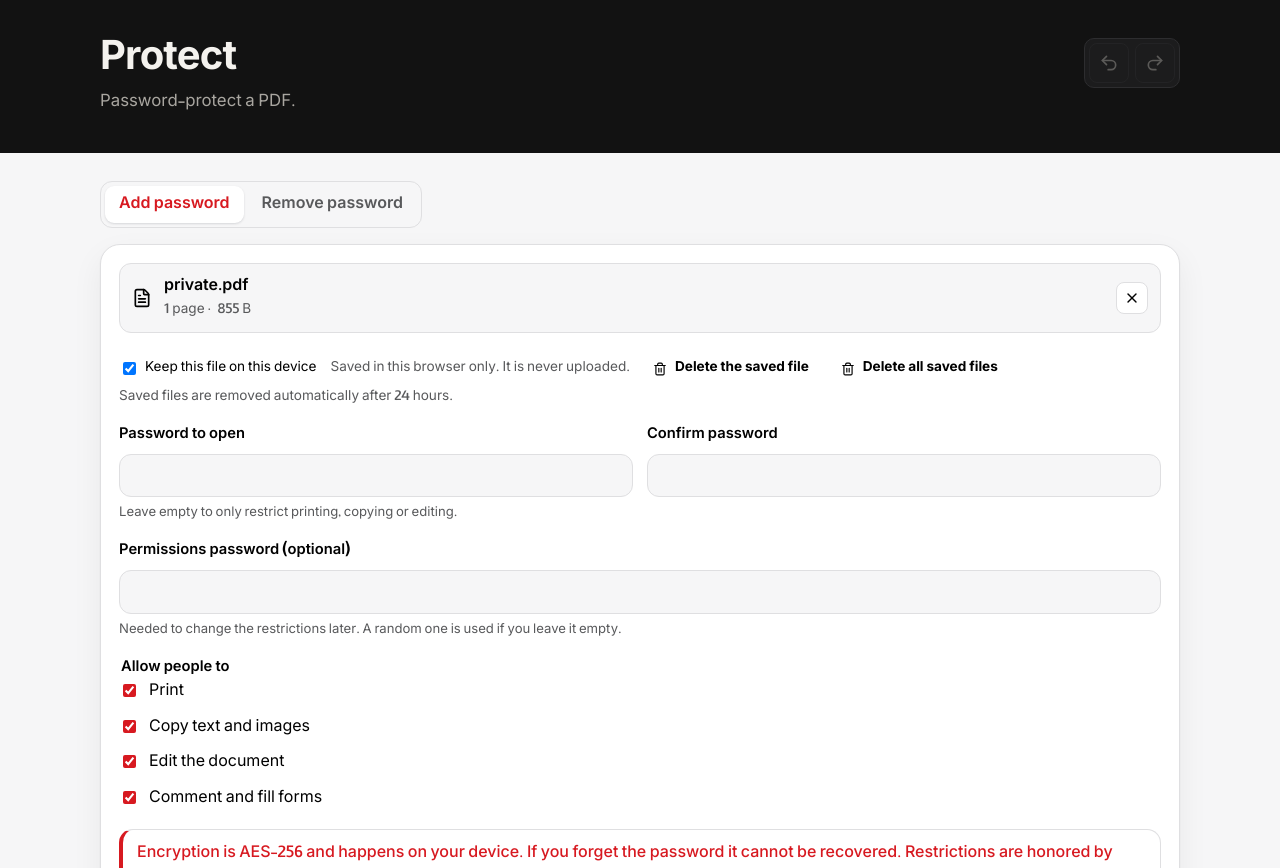
Test case: keeping the opened PDF on this device › does not keep the file when the switch is off
The image size is (1280, 868).
Earlier steps of the test are not shown.
Check: the text "private.pdf" is shown, box [164,276,248,298]
Click the checkbox labelled "Keep this file on this device".
click(130, 369)  # box [123,362,136,375]
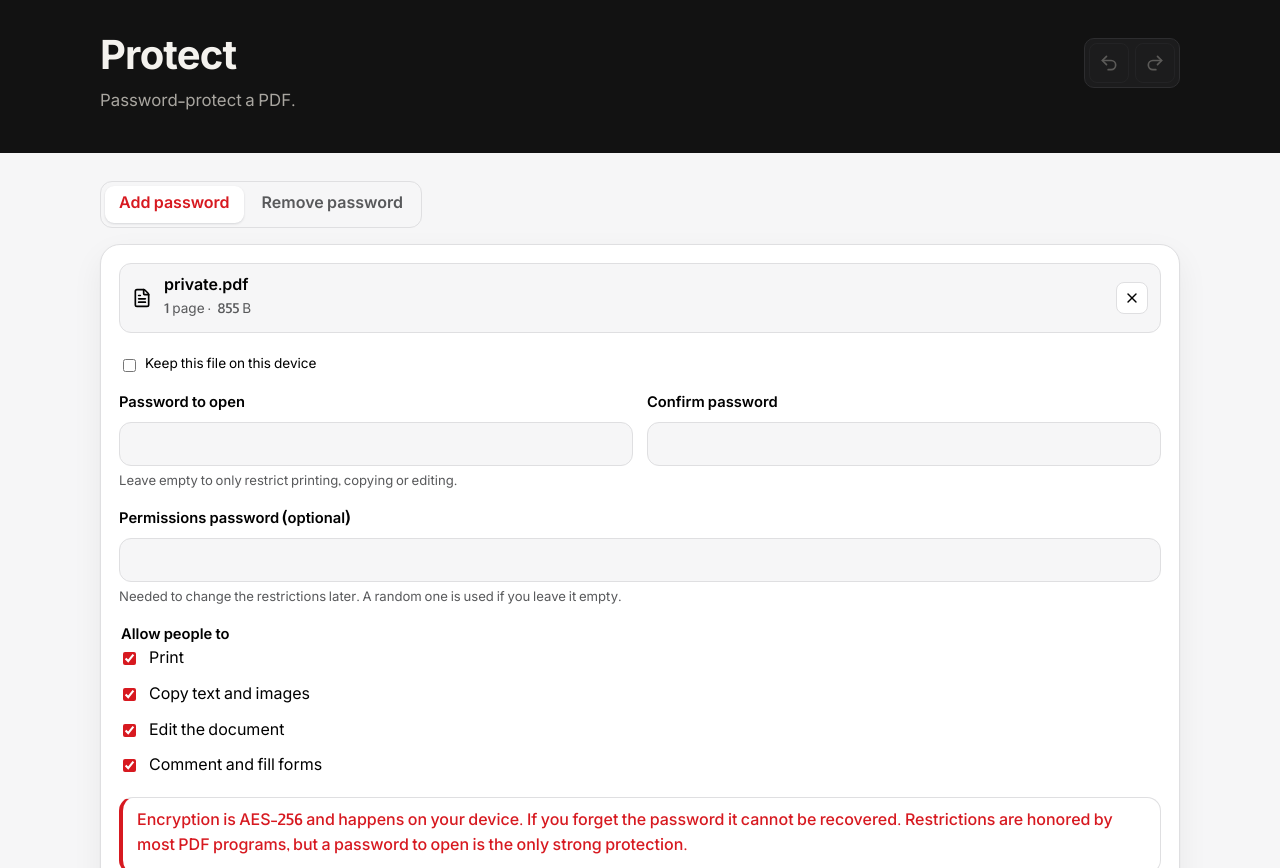
Check: the button "Delete the saved file" is gone
